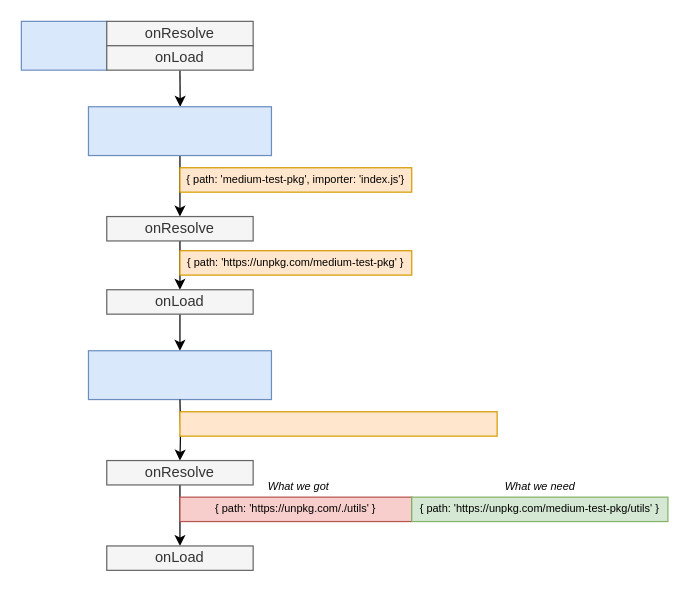
Some shapes in this 689 by 592 pixel diagram are drawn without their labels. The shapes that lost their labels are listed below. From the top down, each one's centre as x and y in pixels, then its label:
point 63,45: index.js
point 179,131: 'medium-test-pkg'
point 179,375: './utils'
point 338,423: {path: './utils', importer: 'https://unpkg.com/medium-test-pkg' }
